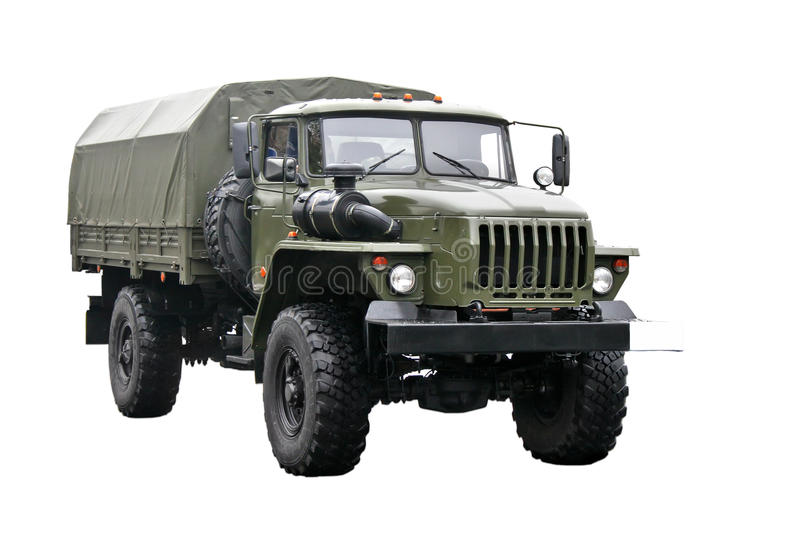camion: (67, 84, 628, 462)
